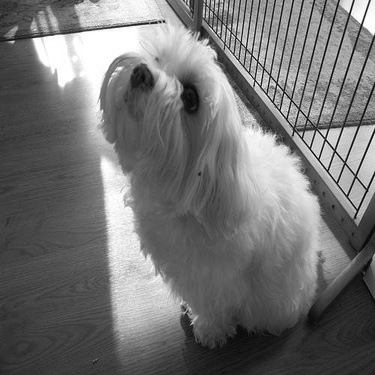dog: (82, 15, 333, 355)
